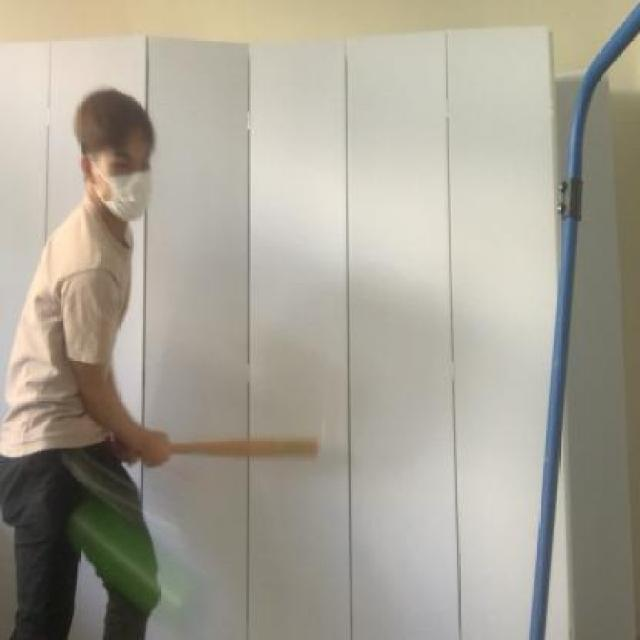baseball: (64, 500, 205, 628)
